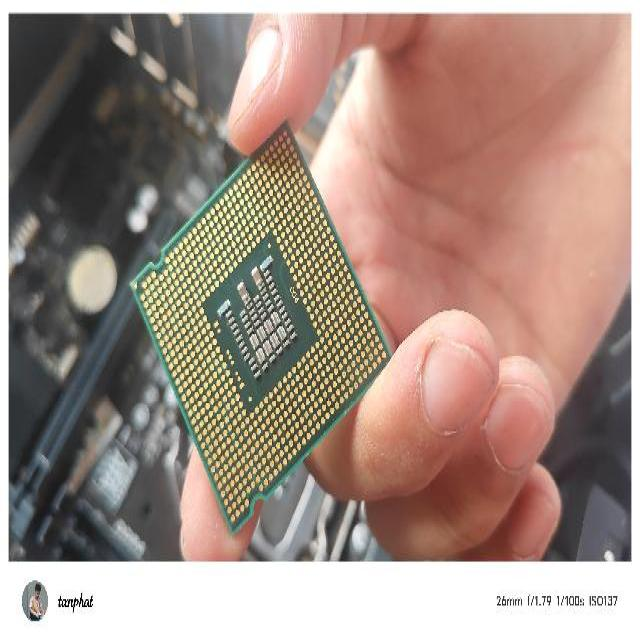CPU: (125, 111, 395, 542)
